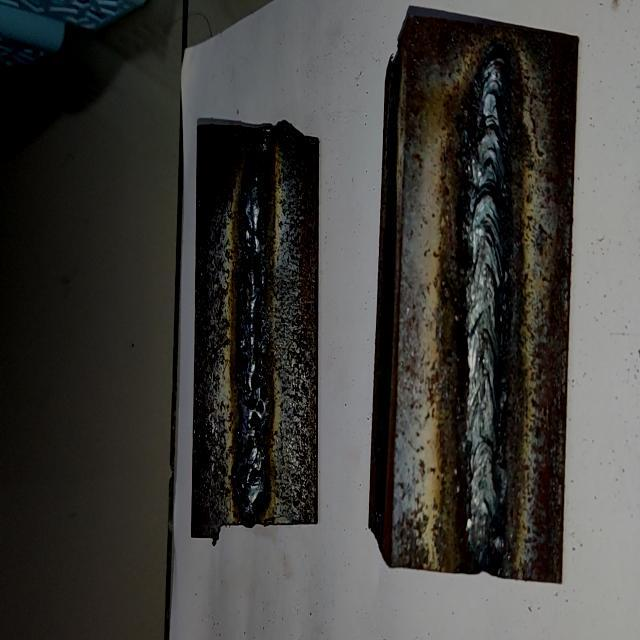Defect: (240, 140, 268, 517)
Welding Line: (471, 43, 506, 565), (238, 140, 268, 514)
Workpiece: (367, 0, 584, 596), (186, 120, 323, 548)
